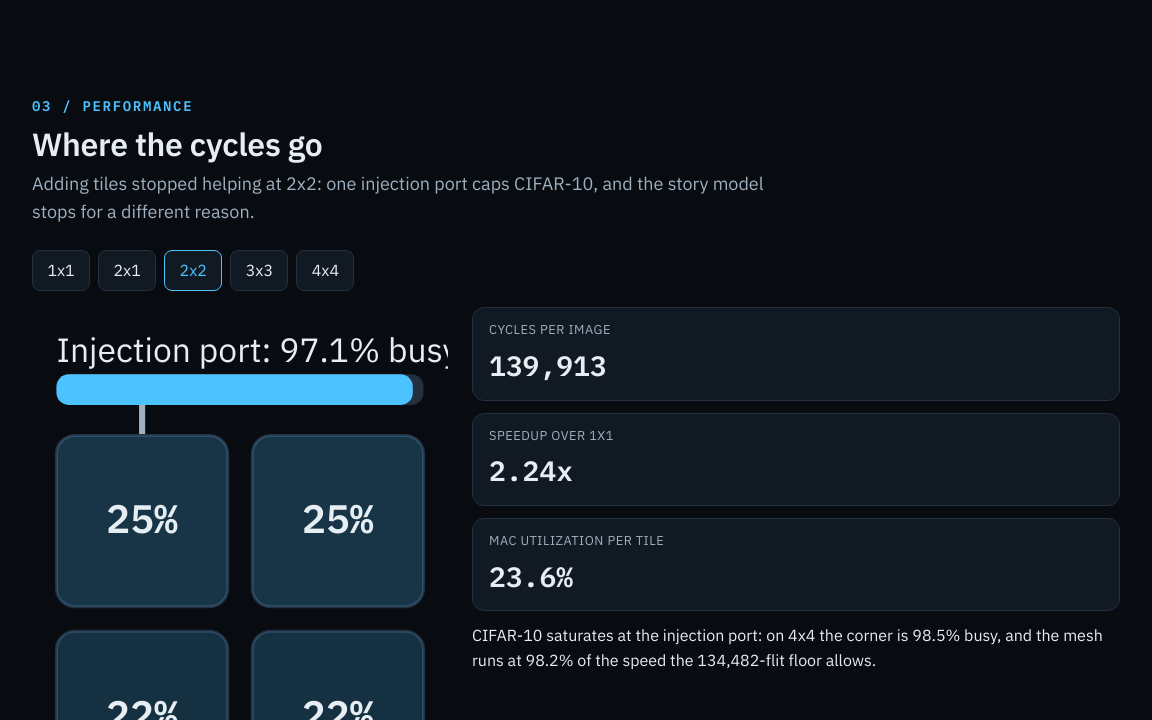
PerformanceSection › redraws the diagram, the stats line and the highlighted bars when another mesh is chosen, and shares the choice
The width and height of the screenshot is (1152, 720).
Click the button "1x1" at (61, 271), box [32, 250, 90, 292]
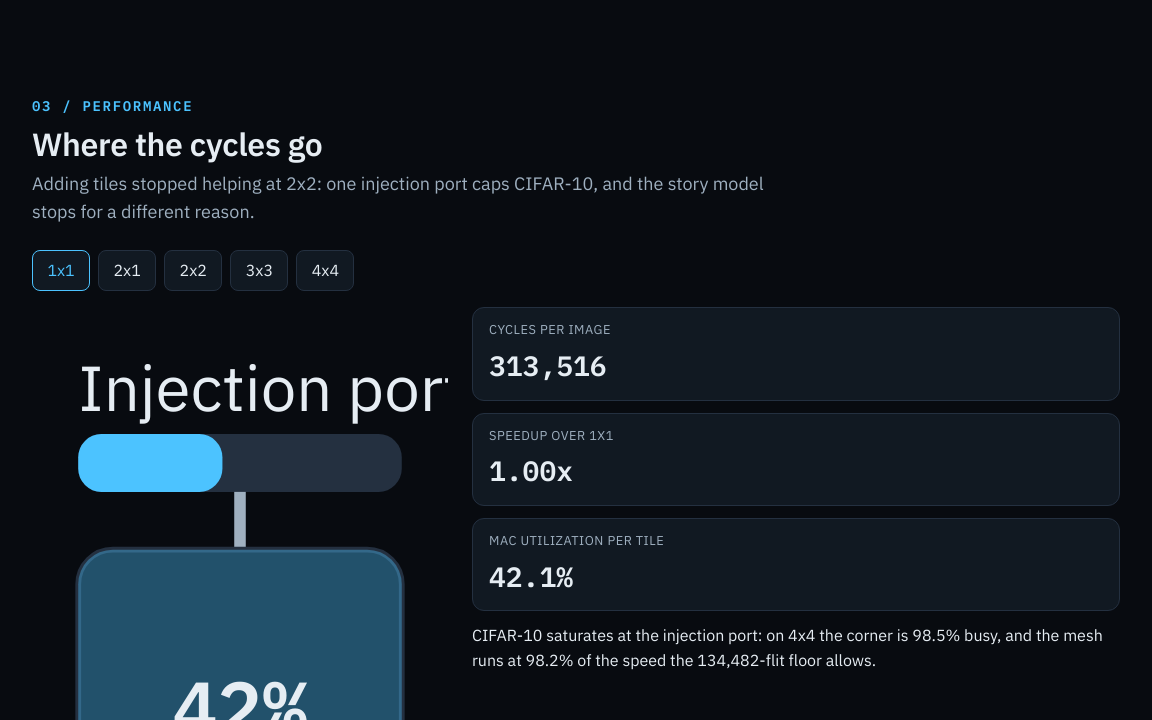
Expected: the element with class "mesh-stats" shows "313,516", [489, 347, 607, 384]
